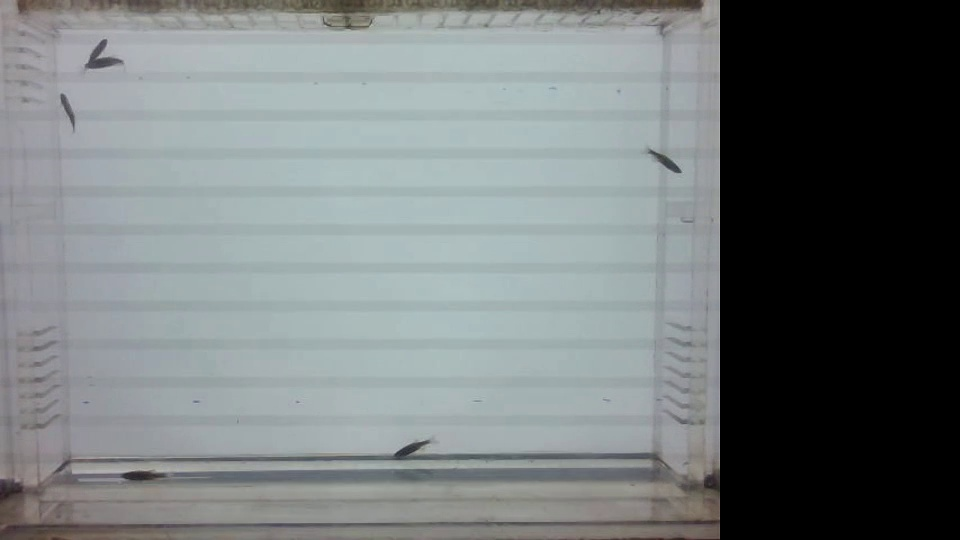fish: (634, 146, 682, 176), (384, 436, 436, 460), (52, 92, 78, 136), (80, 54, 124, 77), (76, 41, 114, 66), (116, 466, 168, 484)
